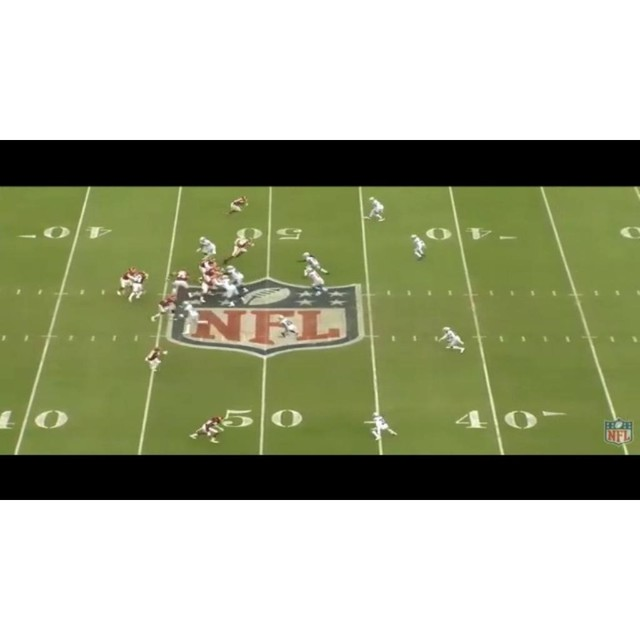american-football-player: (189, 415, 226, 444), (150, 291, 180, 322), (366, 412, 398, 441), (226, 231, 254, 261), (224, 264, 249, 297), (303, 266, 329, 297), (436, 327, 465, 354), (218, 275, 241, 308), (128, 269, 149, 303), (300, 251, 328, 276), (143, 346, 167, 373), (170, 269, 192, 298), (180, 301, 201, 330), (195, 236, 218, 262), (364, 196, 386, 222), (224, 196, 249, 218), (118, 267, 135, 298), (409, 234, 427, 262)
